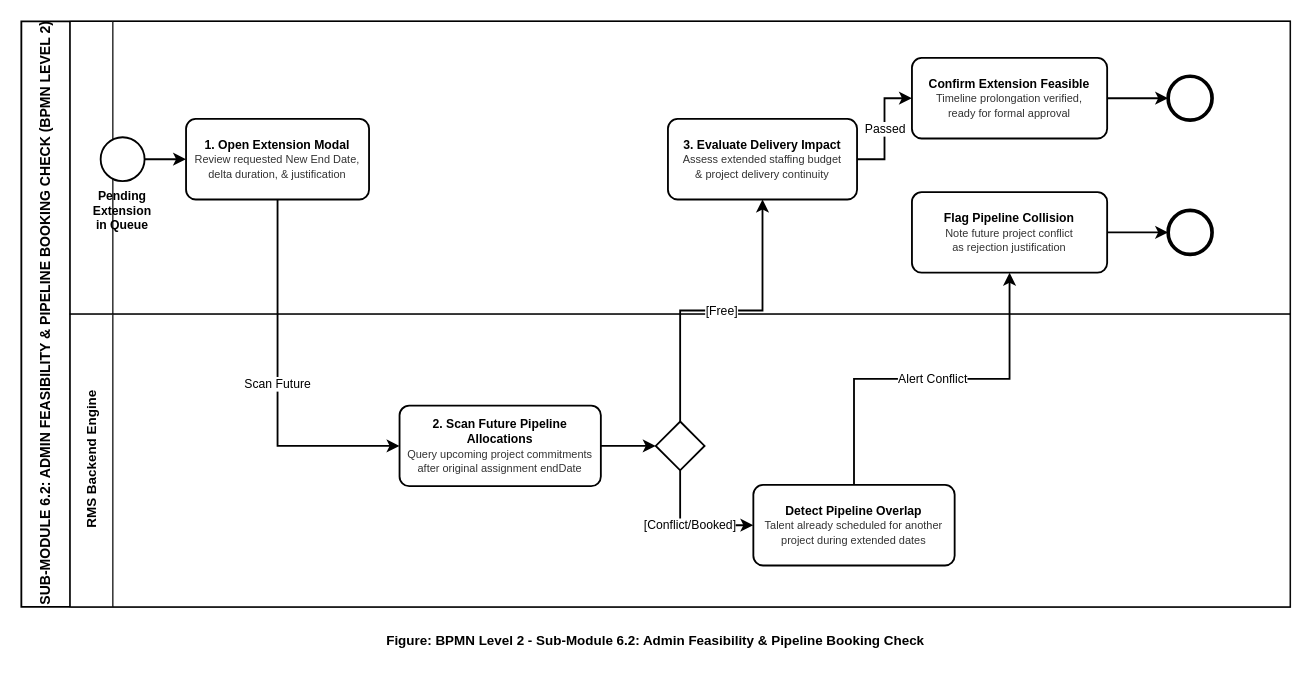
Some shapes in this 1313 by 677 pixel diagram are drawn without their labels. Each missing label, with the box of its shape:
Admin (PMO): (69, 20, 1290, 314)
Proceed to Approval Flow: (1166, 74, 1213, 121)
Proceed to Rejection Flow: (1166, 208, 1213, 256)
Zero Future Booking Conflict?: (654, 420, 705, 471)
